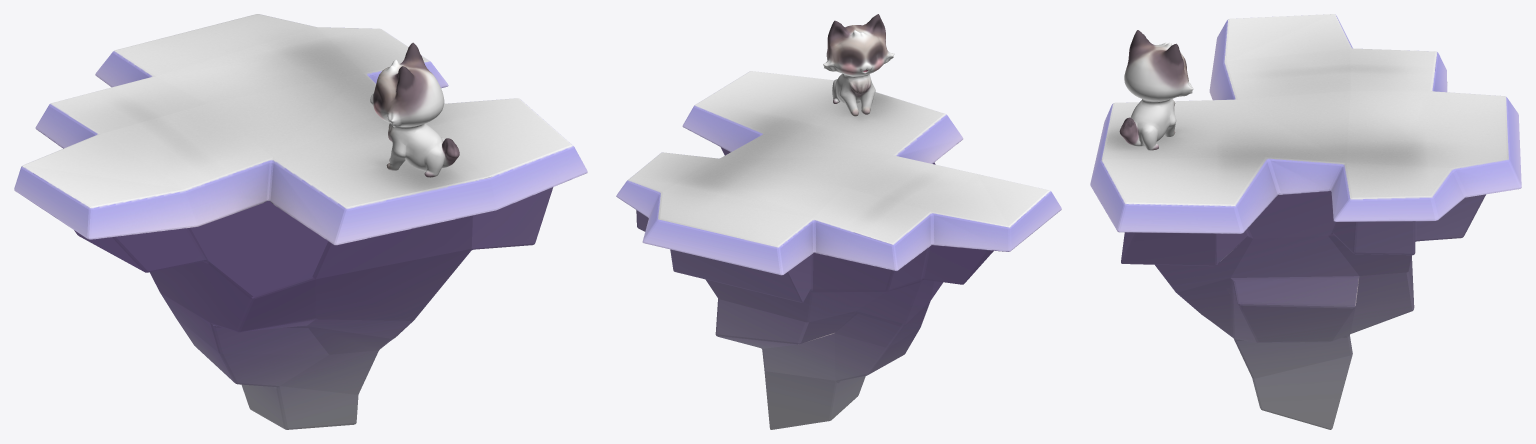
File: one.glb
The picture shows the model from 3 angles, left to right: view 1: azimuth 30°, elevation 25°; view 2: azimuth 150°, elevation 25°; view 3: azimuth 270°, elevation 25°; orthographic projection. The views are drawn at different scales.
Visible parts, largest first — view 1: Island_big, Body; view 2: Island_big, Body; view 3: Island_big, Body.
Part boxes in pixels (x1,y1,x2,y2): Island_big: [14, 14, 587, 429]; Body: [370, 42, 459, 177]; Island_big: [616, 71, 1061, 429]; Body: [823, 14, 894, 116]; Island_big: [1090, 14, 1521, 429]; Body: [1119, 30, 1193, 150].
Bounding box in the file's own units: 5.89 × 5.36 × 5.38.
2 materials, 2 textured.
